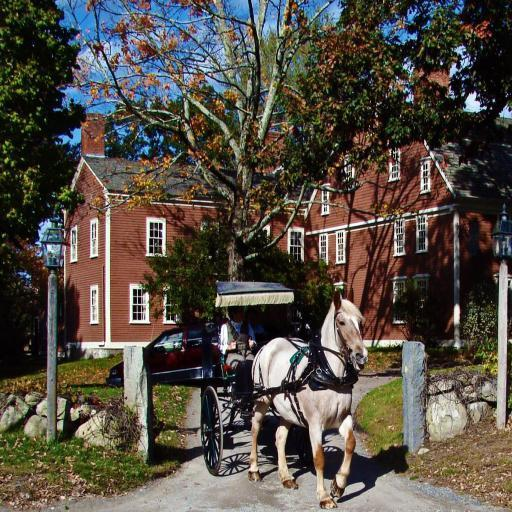horse: (249, 288, 369, 510)
